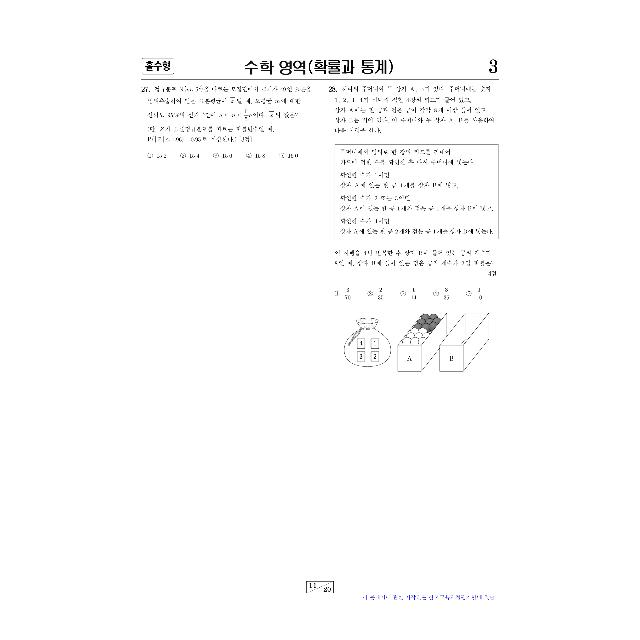multiple: (324, 82, 512, 380), (134, 80, 316, 164)
